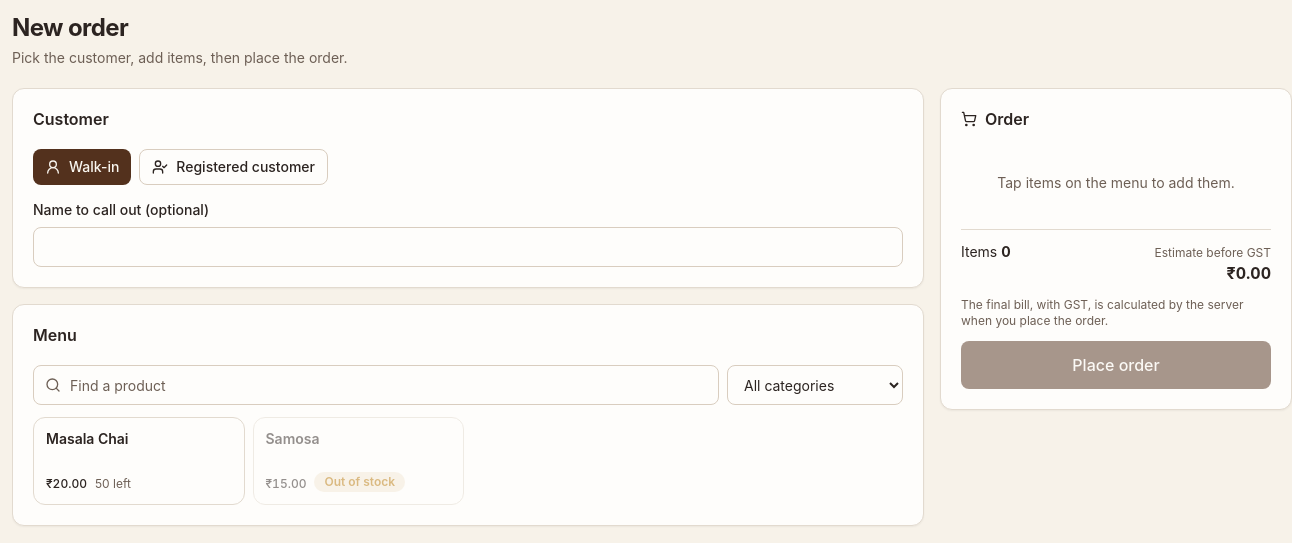
Scenario: POS › keeps the order and shows the backend message when placing fails
The image size is (1292, 543).
What coordinates should you click on to do the following:
click the button "Masala Chai ₹20.00 50 left"
I would click on:
 (139, 461)
Its box is [33, 417, 244, 505].
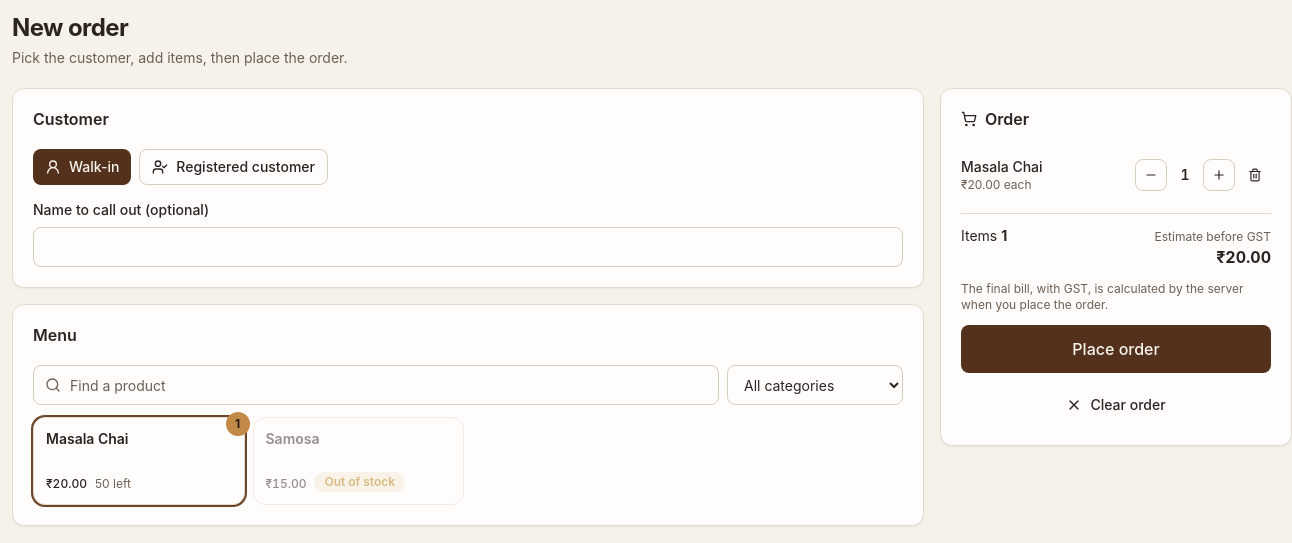
What coordinates should you click on to do the following:
click the button "Masala Chai ₹20.00 50 left 1"
I would click on:
 (139, 461)
Its box is [33, 417, 244, 505].
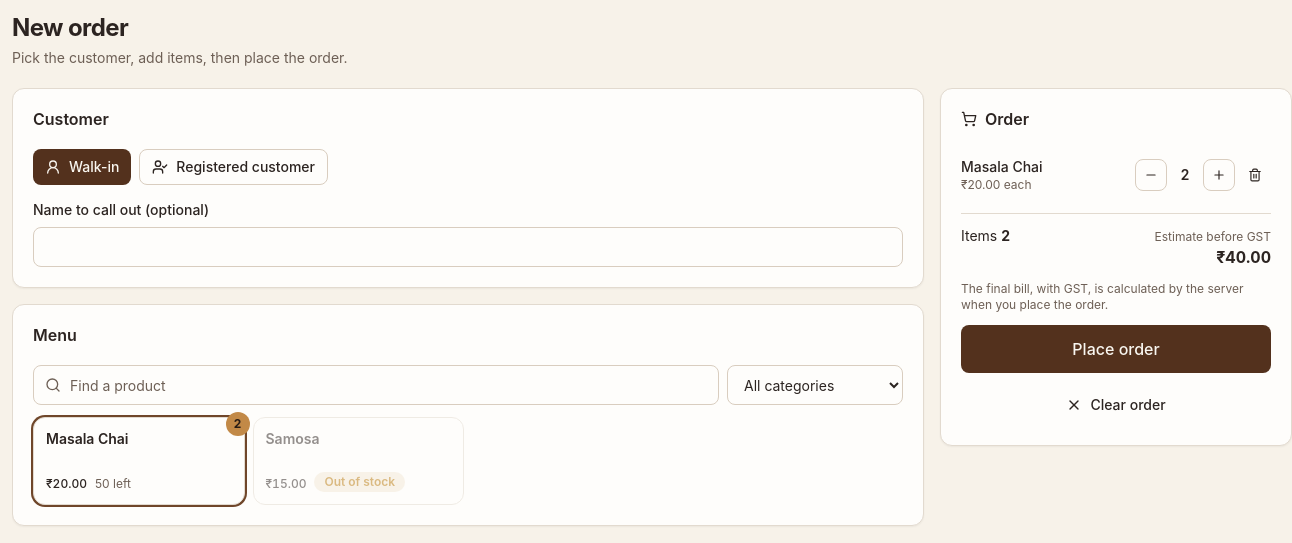
What coordinates should you click on to do the following:
click the button "Place order"
I would click on:
 (1116, 349)
Its box is [961, 325, 1271, 373].
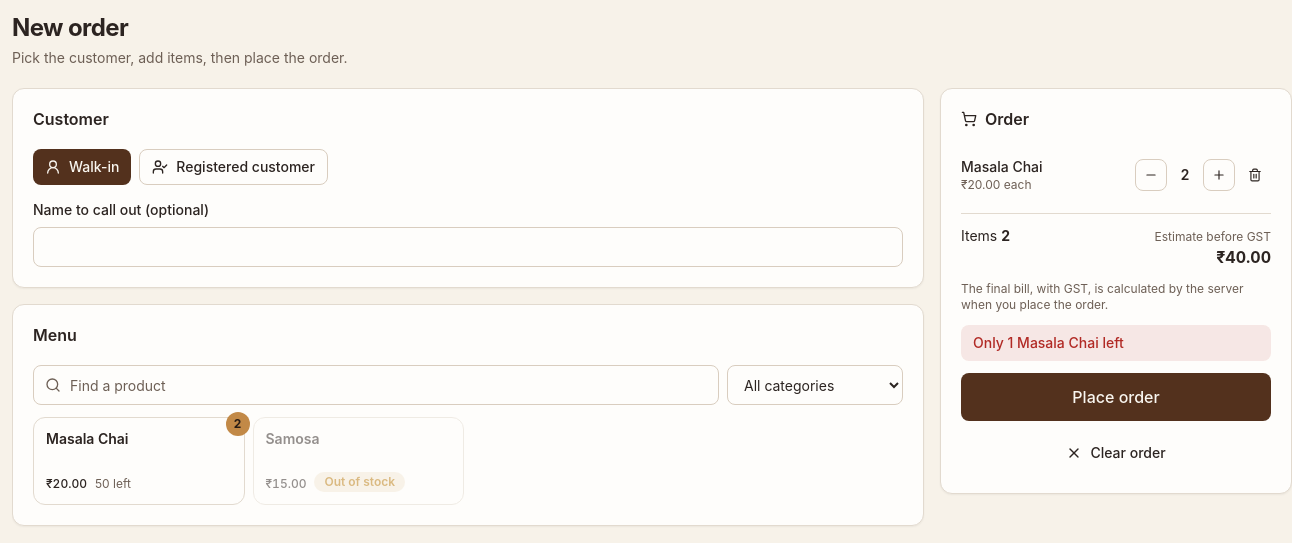
Result: the text named "Masala Chai quantity" reads "2" at [1180, 166, 1190, 183]
Result: the button "Place order" is enabled at [961, 373, 1271, 421]
Result: the message reads "Only 1 Masala Chai left" at [973, 334, 1124, 351]
